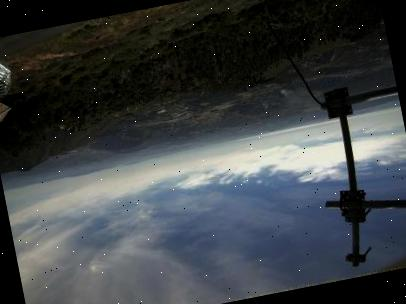smoke: (281, 84, 317, 114)
